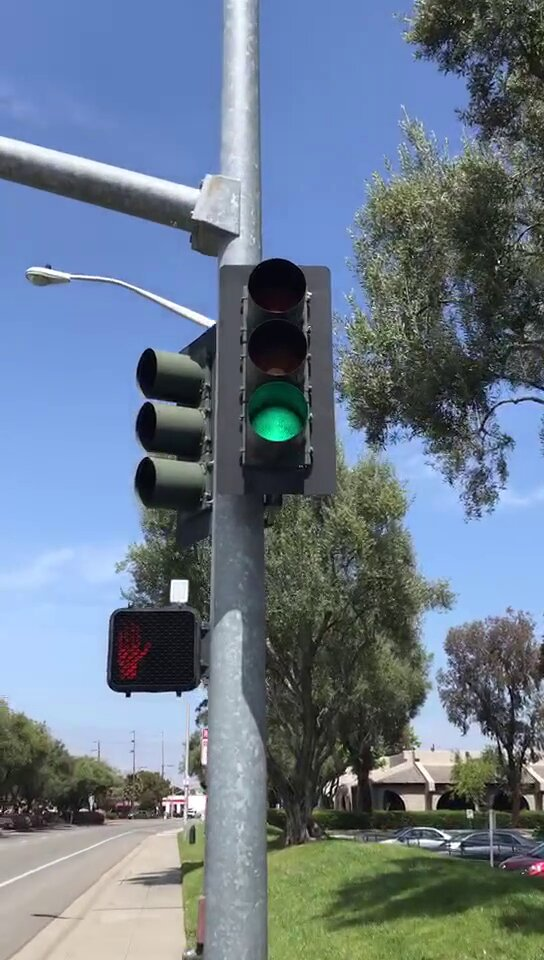green_light: (229, 267, 329, 494)
